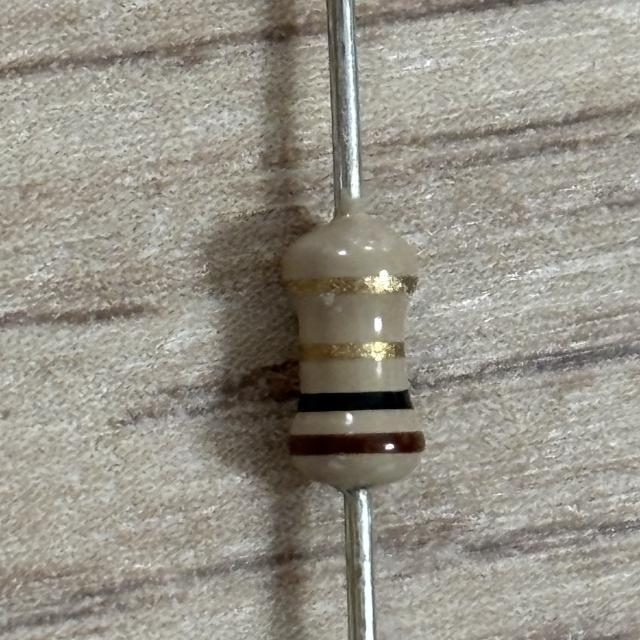resistor: (273, 219, 442, 487)
